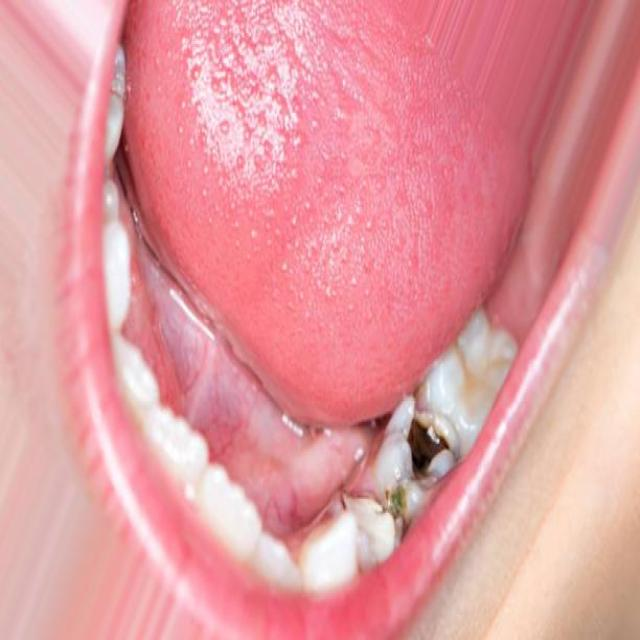caries: (390, 398, 458, 488), (363, 474, 416, 549)
